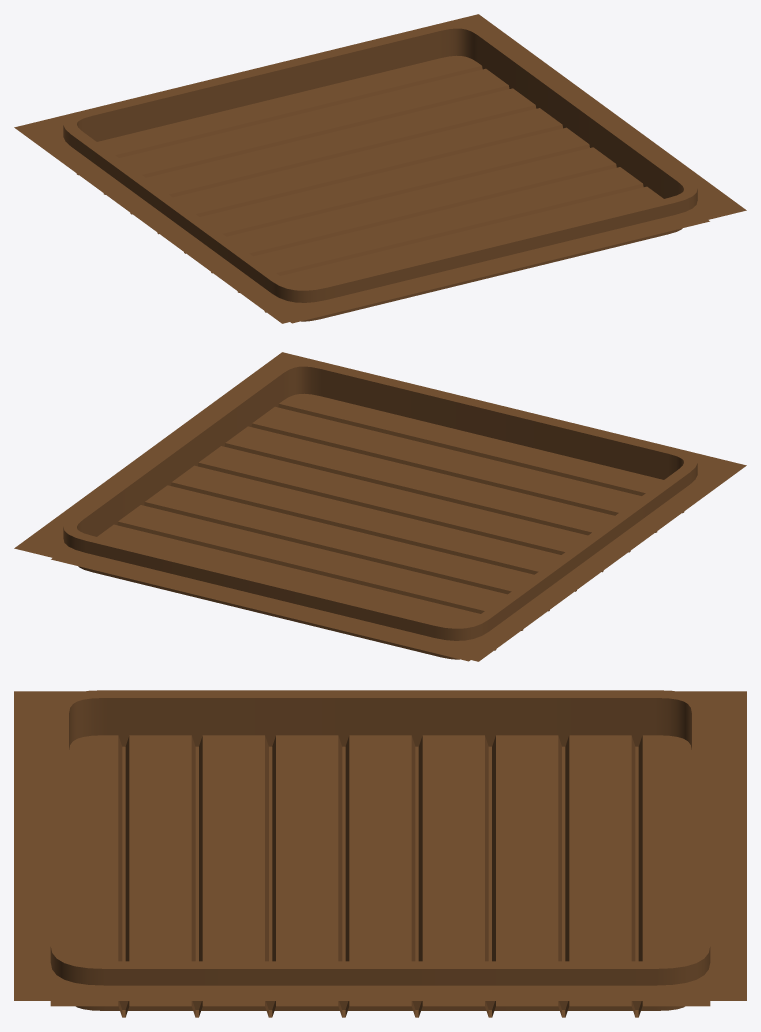
The model's file is Ceiling_B_4x4m_GlassCover.FBX.
The picture shows the model from 3 angles, top to bottom: view 1: azimuth 30°, elevation 25°; view 2: azimuth 150°, elevation 25°; view 3: azimuth 270°, elevation 25°; orthographic projection. The views are drawn at different scales.
Parts seen in each view (by area): view 1: Ceiling_B_4x4m_GlassCover; view 2: Ceiling_B_4x4m_GlassCover; view 3: Ceiling_B_4x4m_GlassCover.
Part boxes in pixels (left/top/right/bottom): Ceiling_B_4x4m_GlassCover: left=14, top=14, right=746, bottom=323; Ceiling_B_4x4m_GlassCover: left=14, top=352, right=746, bottom=661; Ceiling_B_4x4m_GlassCover: left=14, top=690, right=746, bottom=1017.
Bounding box in the file's own units: 400 × 30 × 400.
